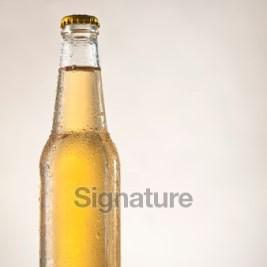beer: (38, 12, 124, 267)
